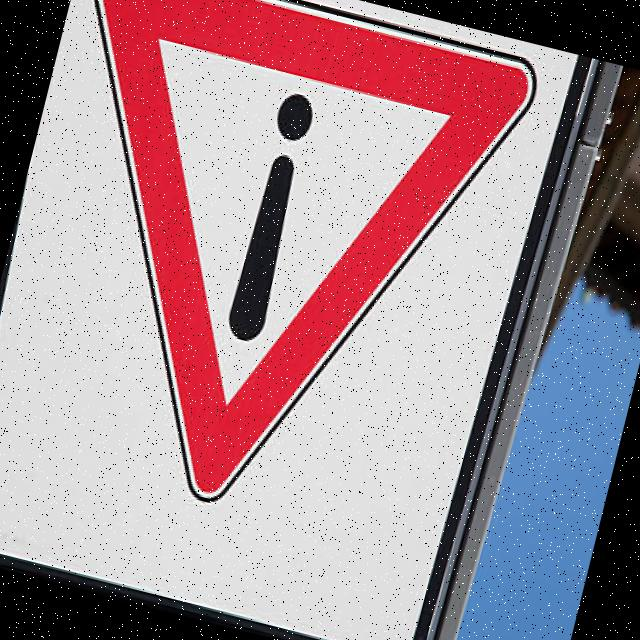warning: (0, 0, 550, 567)
